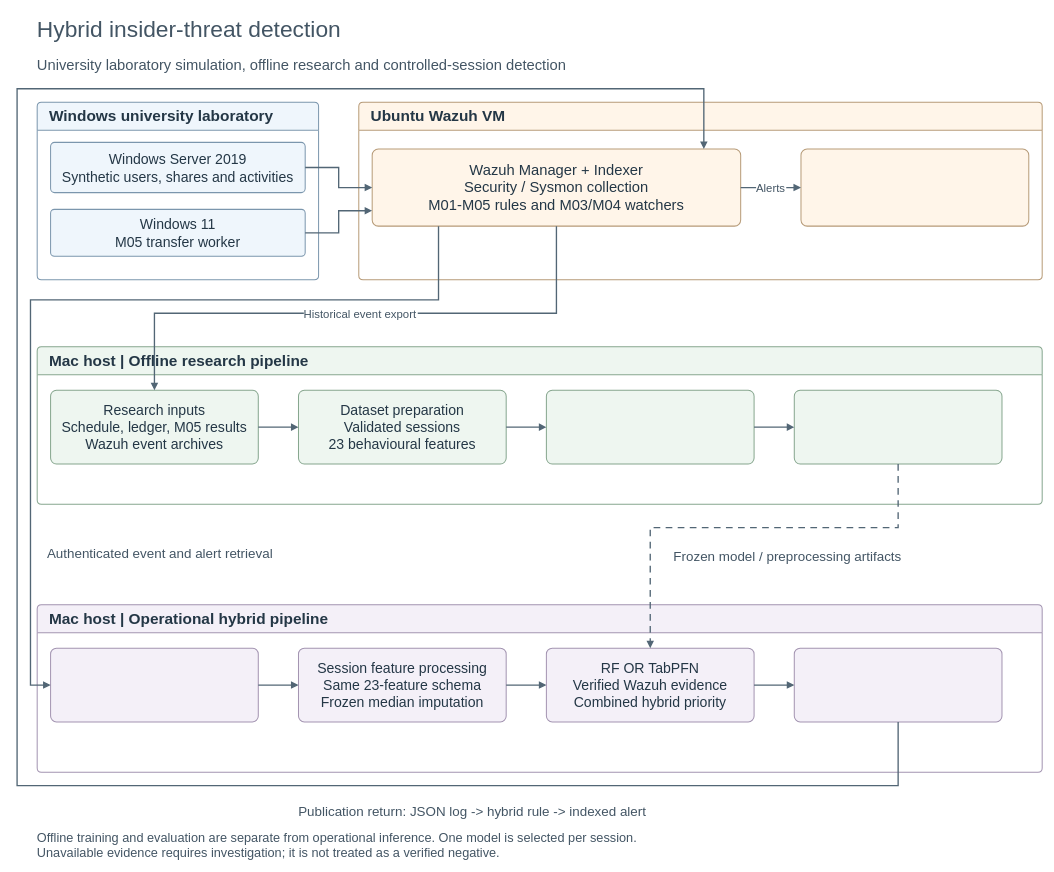
This 1054x872 diagram has some shape labels left out. Each missing label, with the centre of its shape:
Chronological split Train / validation / test Train-only preprocessing: the point at 650,426
Completed-session service Verified lifecycle records Wait until end + 300 s: the point at 154,684
RF + TabPFN Offline training / evaluation Saved models and metrics: the point at 897,426
Verified publication Restricted SSH + deduplication Warnings retained: the point at 897,684
Wazuh Dashboard Indexed alerts and hybrid priorities: the point at 914,187
